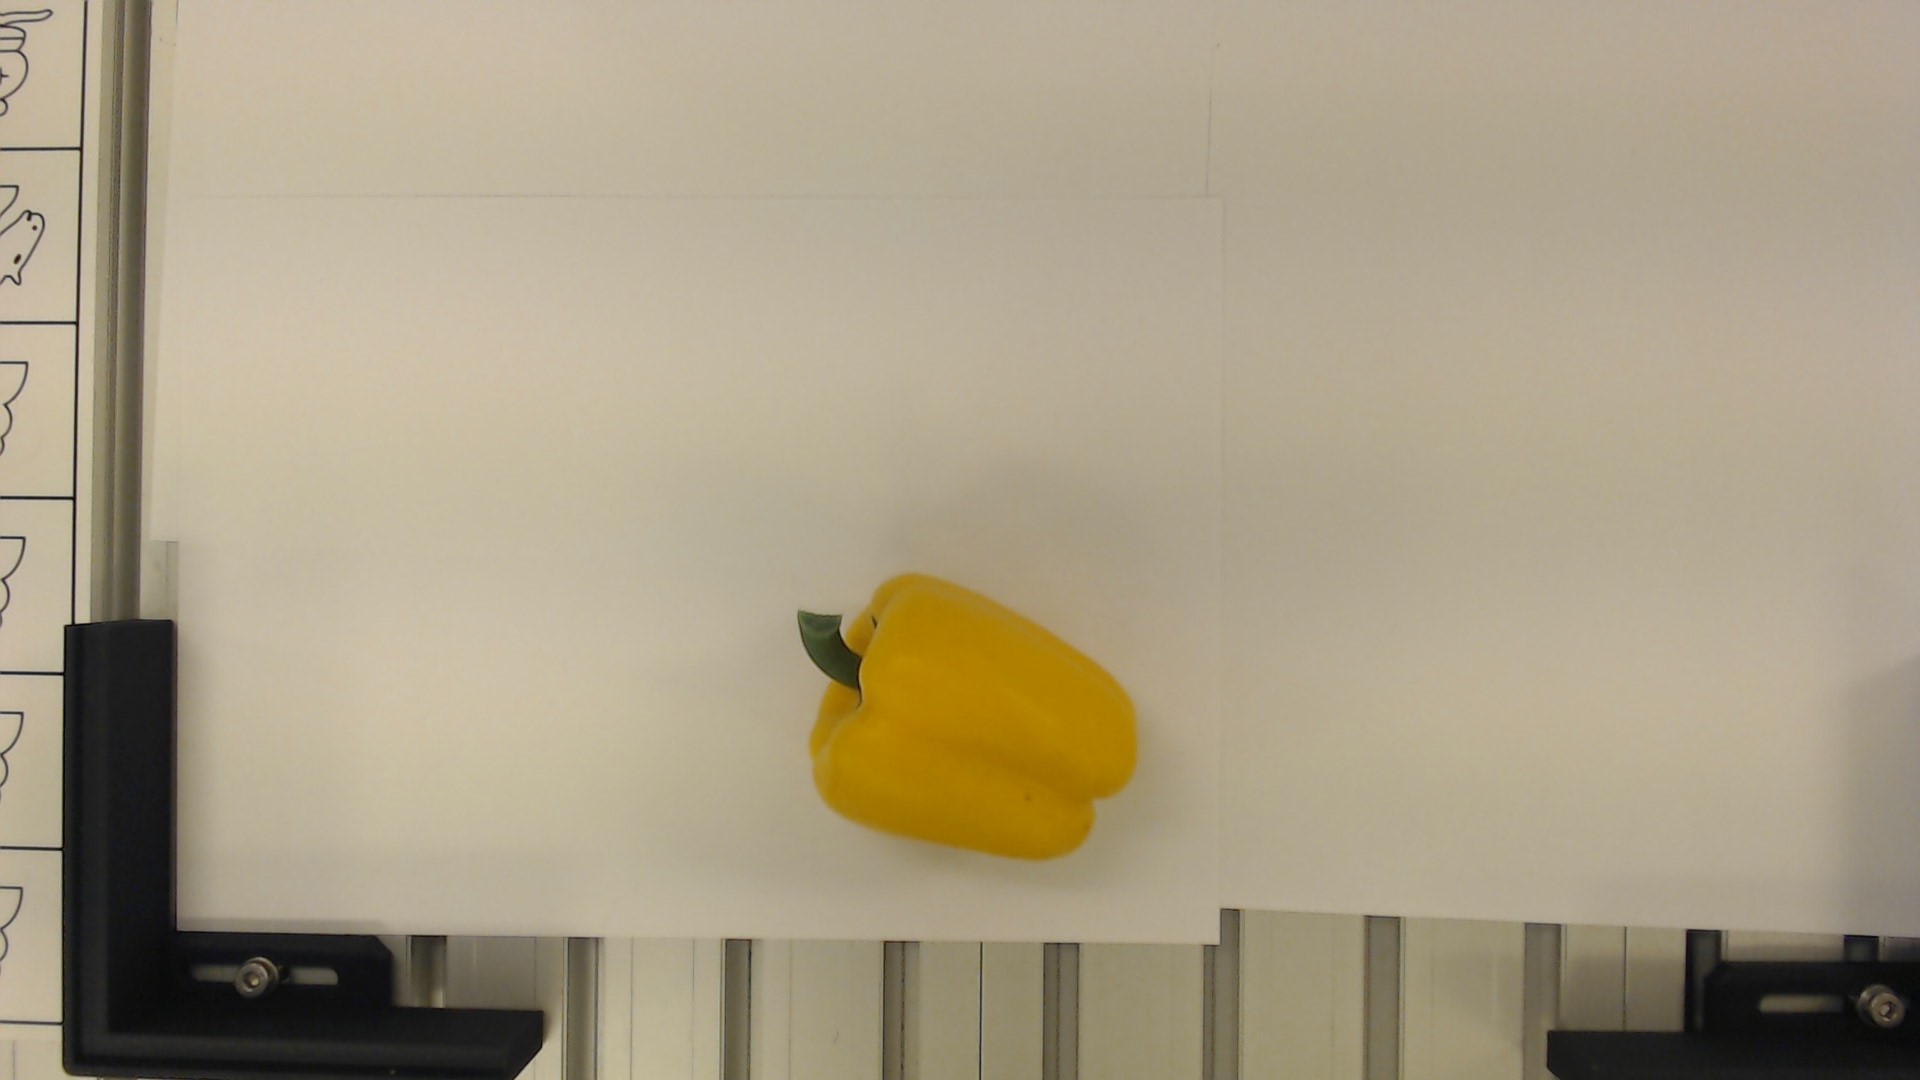Yellow Bell Pepper: (781, 560, 1139, 860)
